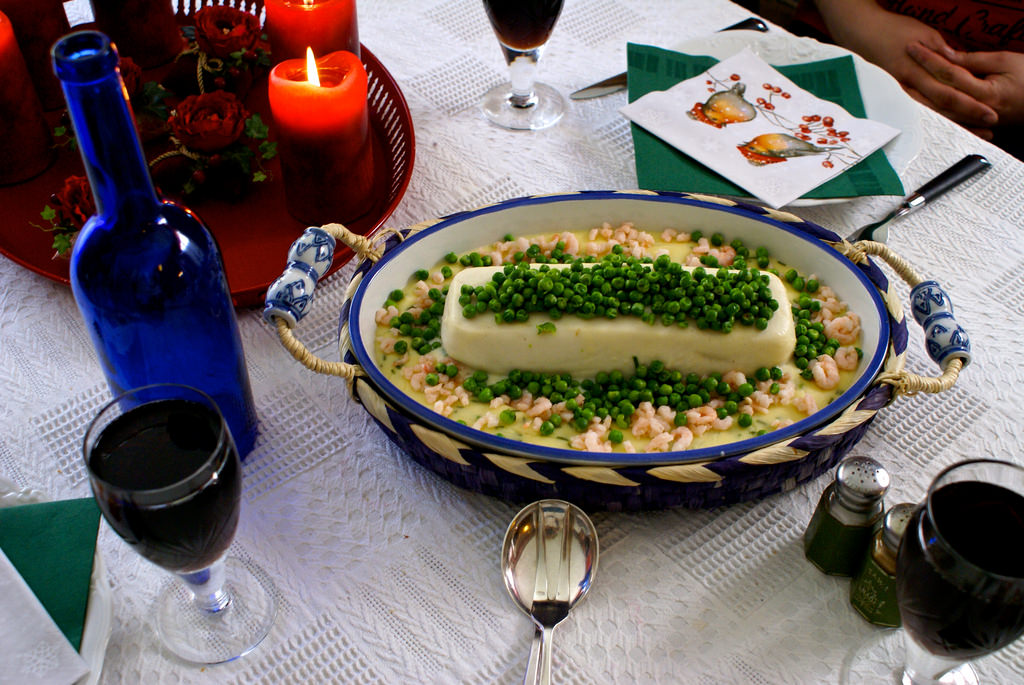boiled peas: (464, 257, 765, 321)
